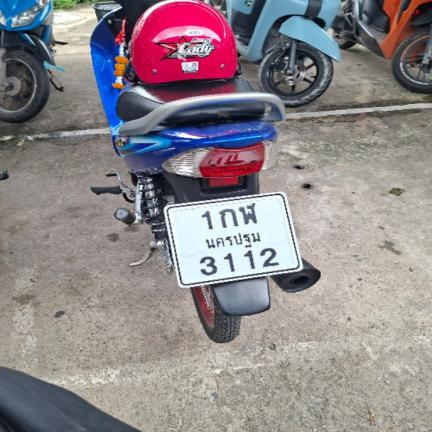1: (191, 206, 218, 232), (219, 250, 241, 275), (240, 248, 262, 271)
2: (259, 244, 284, 269)
3: (196, 254, 220, 279)
A01: (216, 205, 241, 229)
A42: (237, 201, 260, 226)
NPT: (201, 228, 266, 253)
